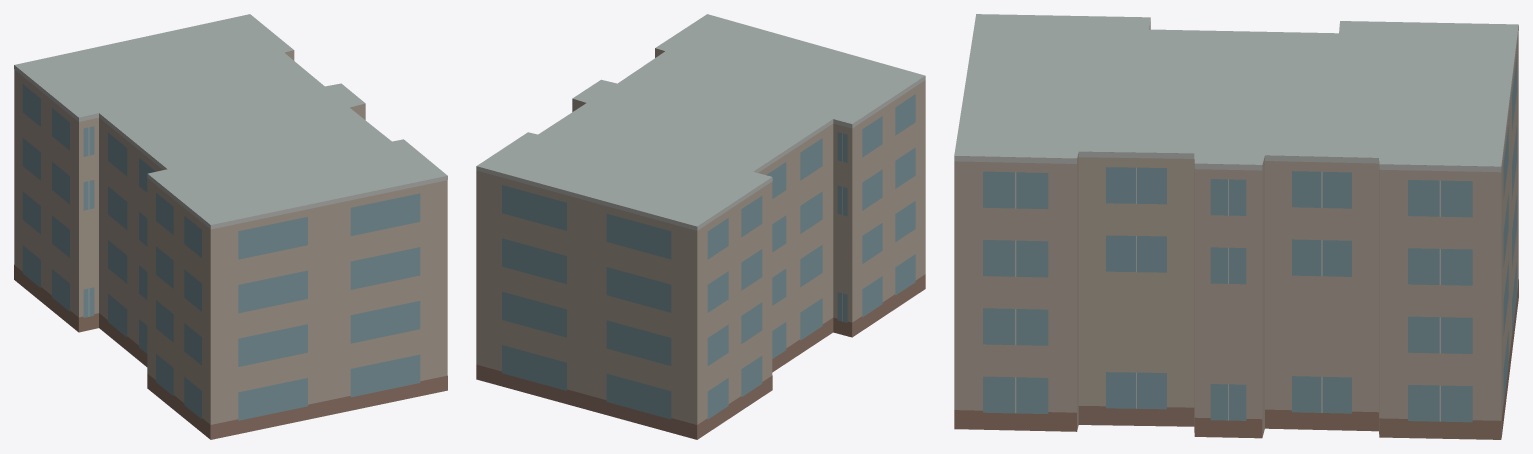
File: survey-upis-32837388.glb
The picture shows the model from 3 angles, left to right: view 1: azimuth 30°, elevation 25°; view 2: azimuth 150°, elevation 25°; view 3: azimuth 270°, elevation 25°; orthographic projection. The views are drawn at different scales.
Visible parts, largest first — view 1: survey-upis-32837388.tmp; view 2: survey-upis-32837388.tmp; view 3: survey-upis-32837388.tmp.
Part boxes in pixels (x1,y1,x2,y2): survey-upis-32837388.tmp: (14,14,447,439); survey-upis-32837388.tmp: (476,14,925,439); survey-upis-32837388.tmp: (954,14,1518,439).
Bounding box in the file's own units: 14.26 × 11.9 × 22.29.
